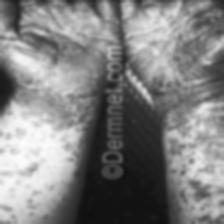Non-Cancerous Skin Condition: (13, 0, 89, 119), (0, 128, 72, 224), (138, 0, 224, 76), (184, 93, 224, 224)
